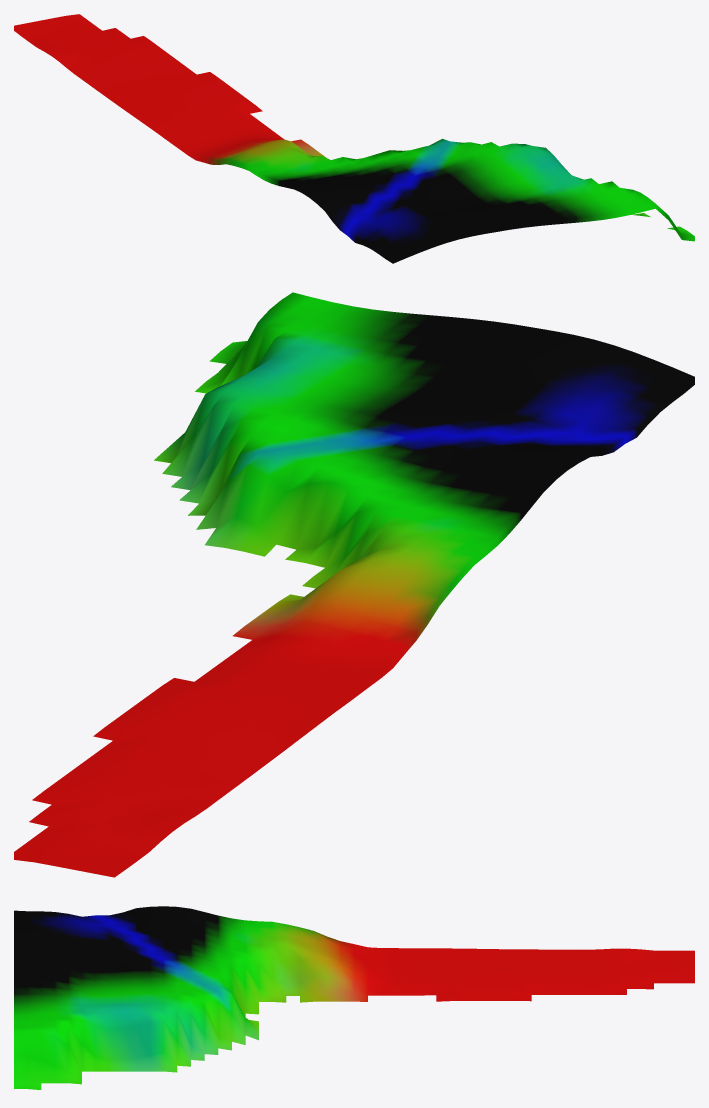
File: coast_14_11.glb
The picture shows the model from 3 angles, top to bottom: view 1: azimuth 30°, elevation 25°; view 2: azimuth 150°, elevation 25°; view 3: azimuth 270°, elevation 25°; orthographic projection. The views are drawn at different scales.
Visible parts, largest first — view 1: terrain; view 2: terrain; view 3: terrain.
Boxes of the visible parts, left/top/right/bottom form: terrain: left=14, top=14, right=694, bottom=263; terrain: left=14, top=292, right=694, bottom=877; terrain: left=14, top=906, right=694, bottom=1089.
Bounding box in the file's own units: 92 × 18.84 × 200.
